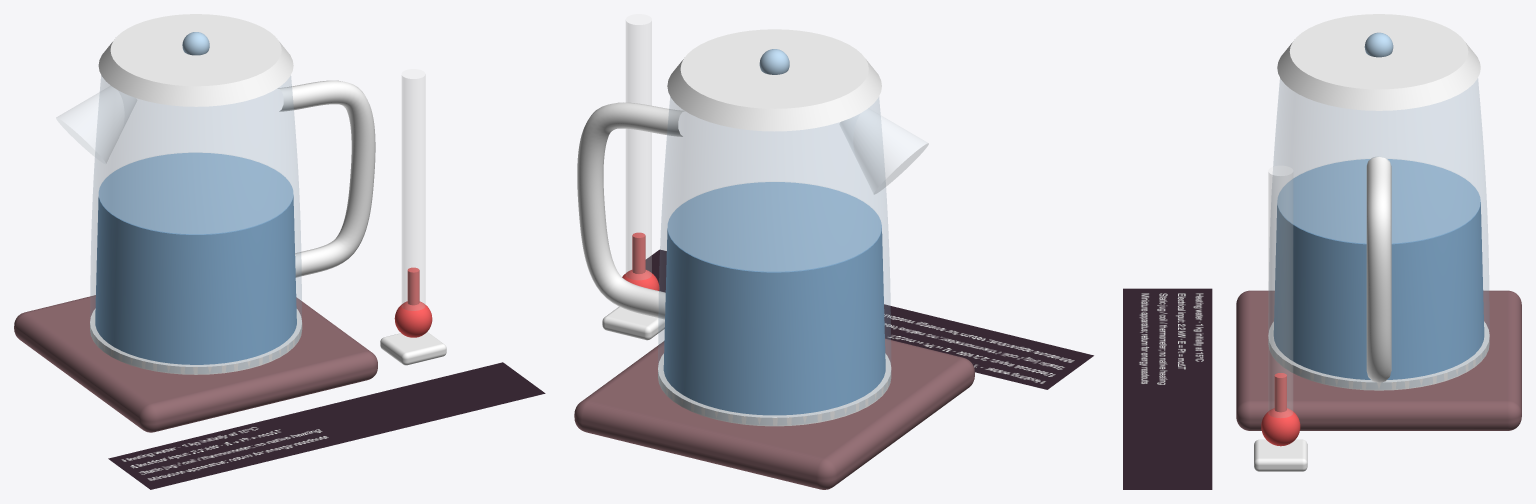
The model's file is energy.glb.
The picture shows the model from 3 angles, left to right: view 1: azimuth 30°, elevation 25°; view 2: azimuth 150°, elevation 25°; view 3: azimuth 270°, elevation 25°; orthographic projection. The views are drawn at different scales.
Visible parts, largest first — view 1: energy_authored_teaching_model, Scale_and_credit; view 2: energy_authored_teaching_model, Scale_and_credit; view 3: energy_authored_teaching_model, Scale_and_credit.
Part boxes in pixels (bbox=[...]): energy_authored_teaching_model: bbox=[14, 14, 446, 432]; Scale_and_credit: bbox=[108, 362, 545, 489]; energy_authored_teaching_model: bbox=[574, 14, 974, 489]; Scale_and_credit: bbox=[645, 249, 1093, 389]; energy_authored_teaching_model: bbox=[1236, 14, 1521, 471]; Scale_and_credit: bbox=[1123, 288, 1212, 489].
Bounding box in the file's own units: 0.4 × 0.3165 × 0.335.
Materials: 13 (1 with a texture image).
